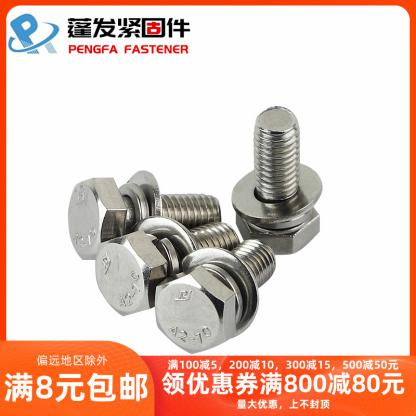FOD: (153, 237, 278, 354), (92, 221, 240, 318), (64, 169, 222, 259), (229, 106, 322, 257)
